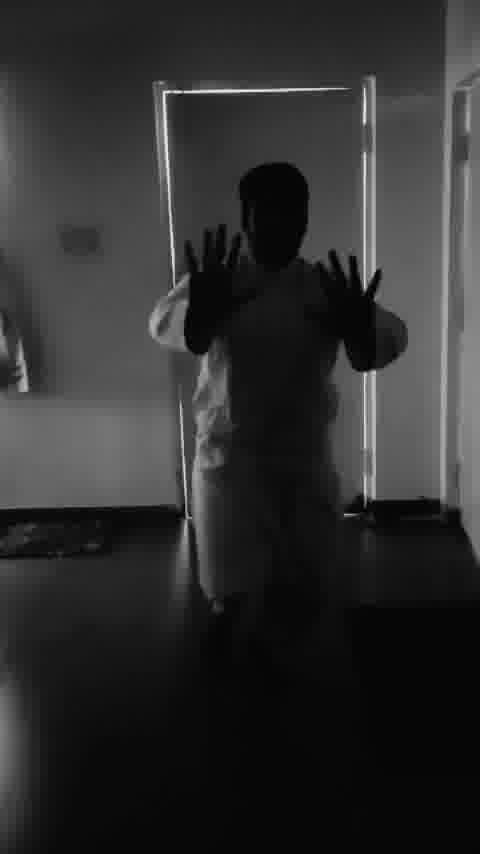duck: (163, 147, 418, 735)
